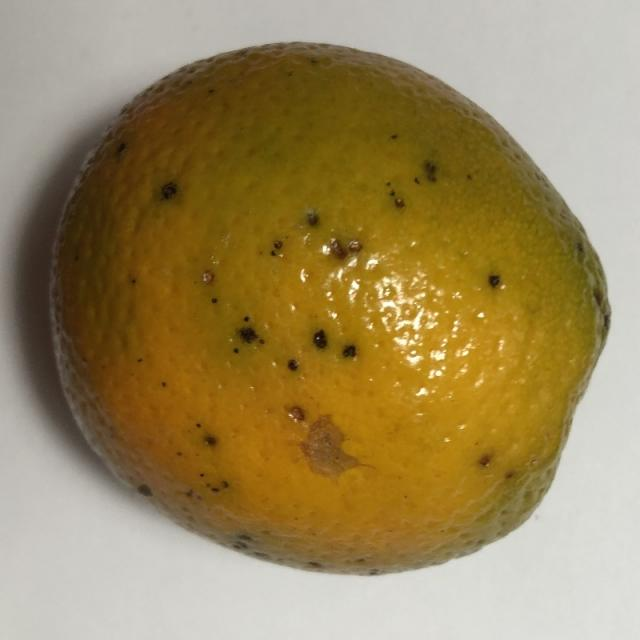blackspot: (28, 22, 617, 591)
